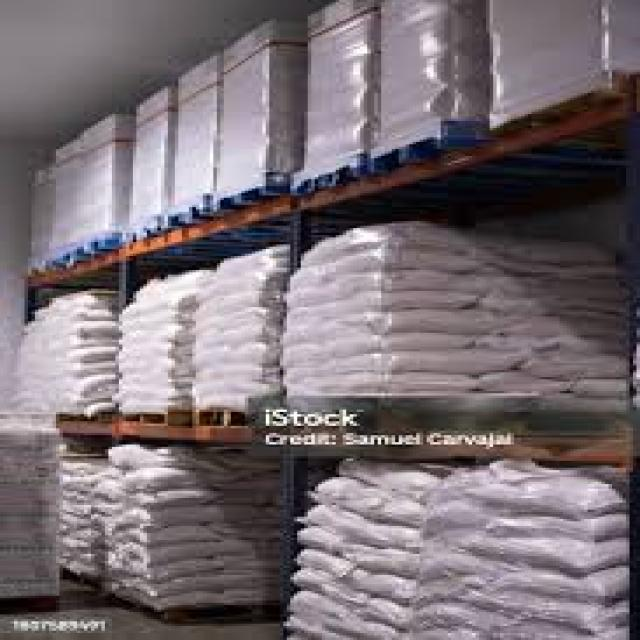cement_bag: (487, 471, 638, 518), (505, 563, 636, 615), (500, 533, 632, 576), (498, 513, 638, 548), (333, 247, 478, 279), (333, 370, 482, 398), (326, 330, 473, 358), (335, 290, 473, 319), (127, 572, 238, 606), (122, 539, 250, 568), (535, 274, 631, 311), (346, 570, 418, 612), (130, 502, 226, 532), (495, 318, 632, 337), (529, 353, 633, 378), (354, 545, 424, 581), (288, 592, 352, 630), (310, 475, 375, 512), (478, 370, 569, 396), (190, 293, 260, 325), (195, 272, 262, 305), (125, 463, 195, 494), (293, 551, 359, 583), (193, 344, 262, 374), (118, 291, 190, 319), (196, 323, 263, 353), (193, 374, 269, 399), (361, 599, 415, 632), (297, 525, 349, 555), (119, 357, 189, 377), (118, 327, 181, 348), (119, 383, 184, 402)
